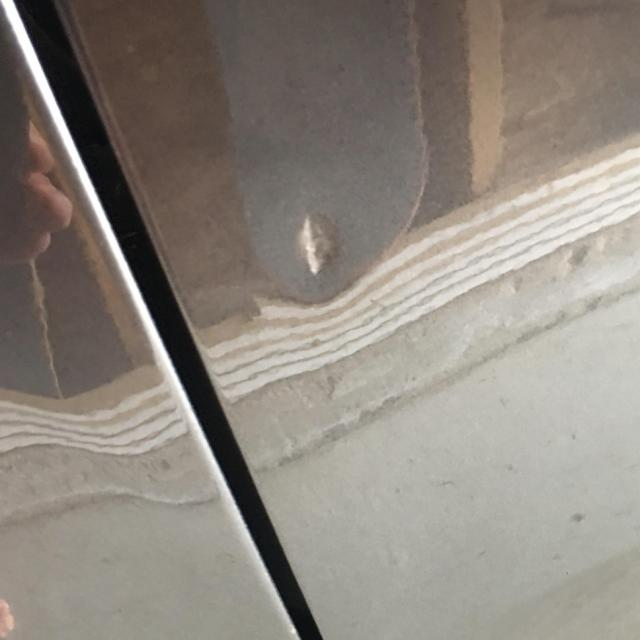dents: (272, 195, 351, 285)
